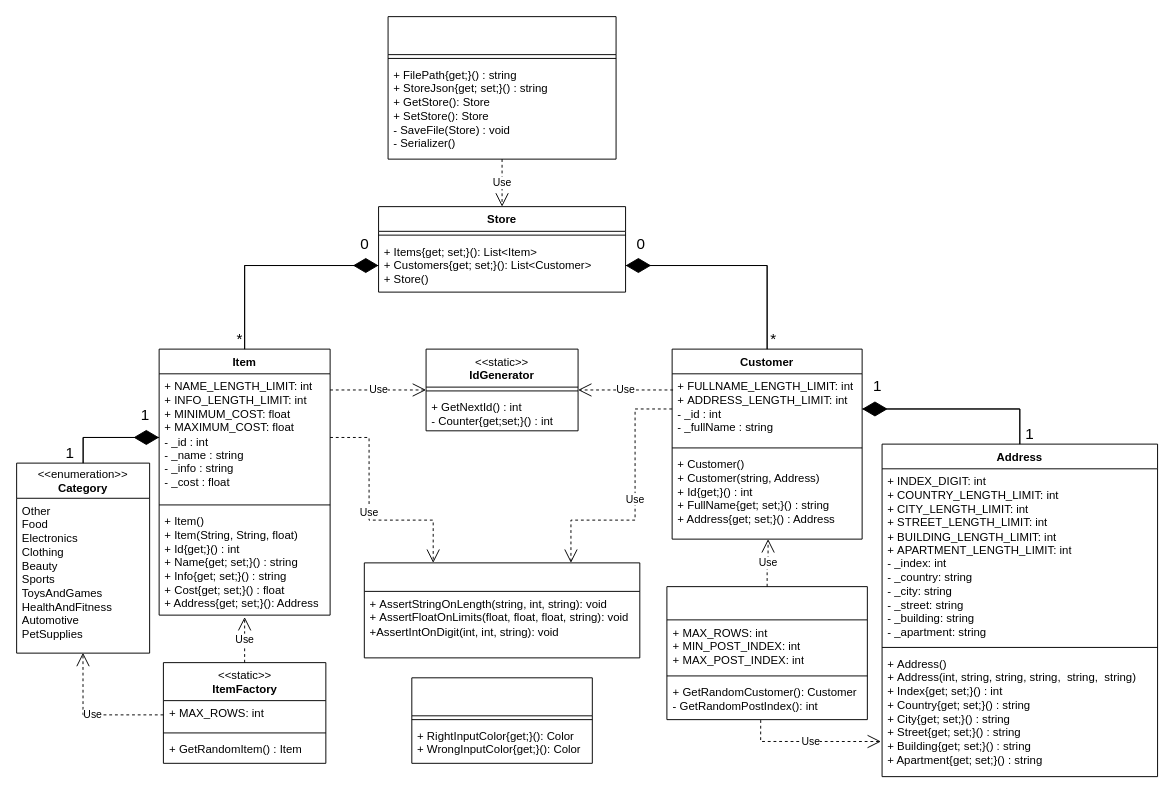
Image size: 1174x796. Some labels were removed from this diagram. The box of each missing label's shape, as (x1, y1, x2, y2) in pixels:
<<static>> AppColors: (411, 677, 592, 763)
<<static>> CustomerFactory: (666, 586, 867, 720)
<<static>> Serializer: (387, 16, 616, 159)
<<static>> ValueValidator: (363, 562, 640, 658)
